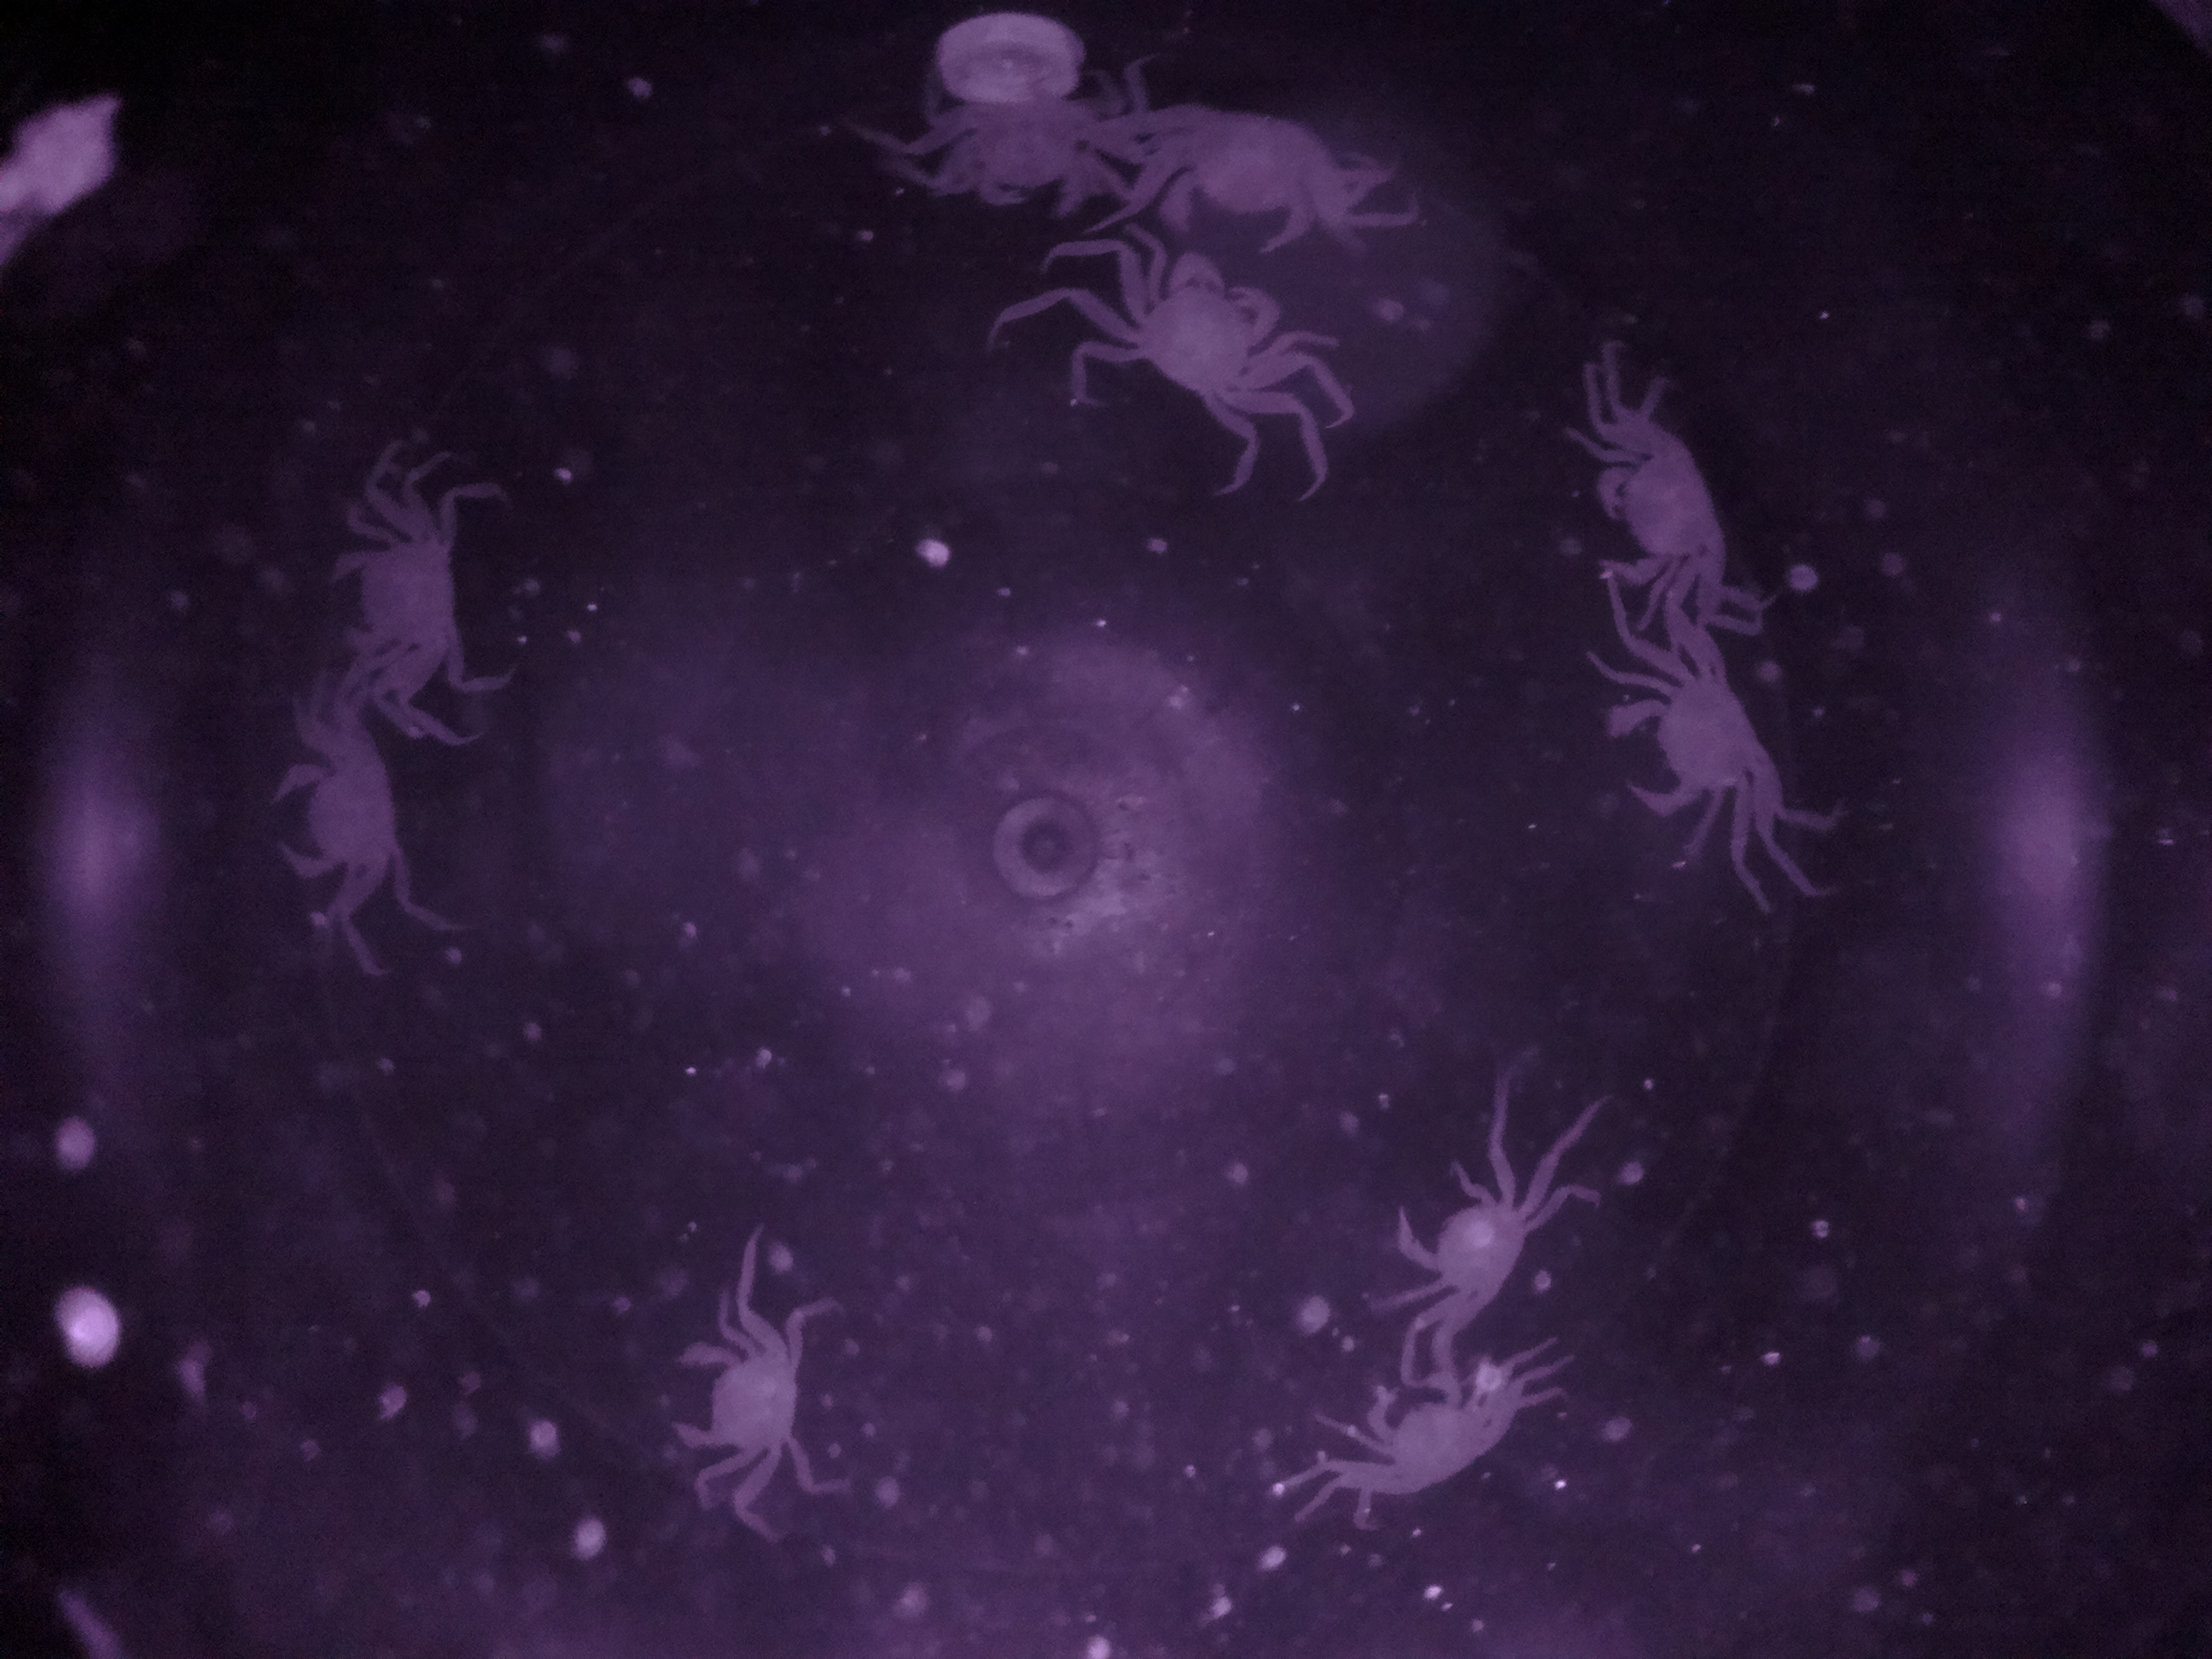Crab: (1089, 223, 1310, 437), (1583, 636, 1784, 863), (1362, 1140, 1554, 1338), (1329, 1354, 1545, 1523), (1573, 397, 1743, 608), (305, 502, 491, 692), (651, 1303, 822, 1492), (253, 732, 413, 927)
